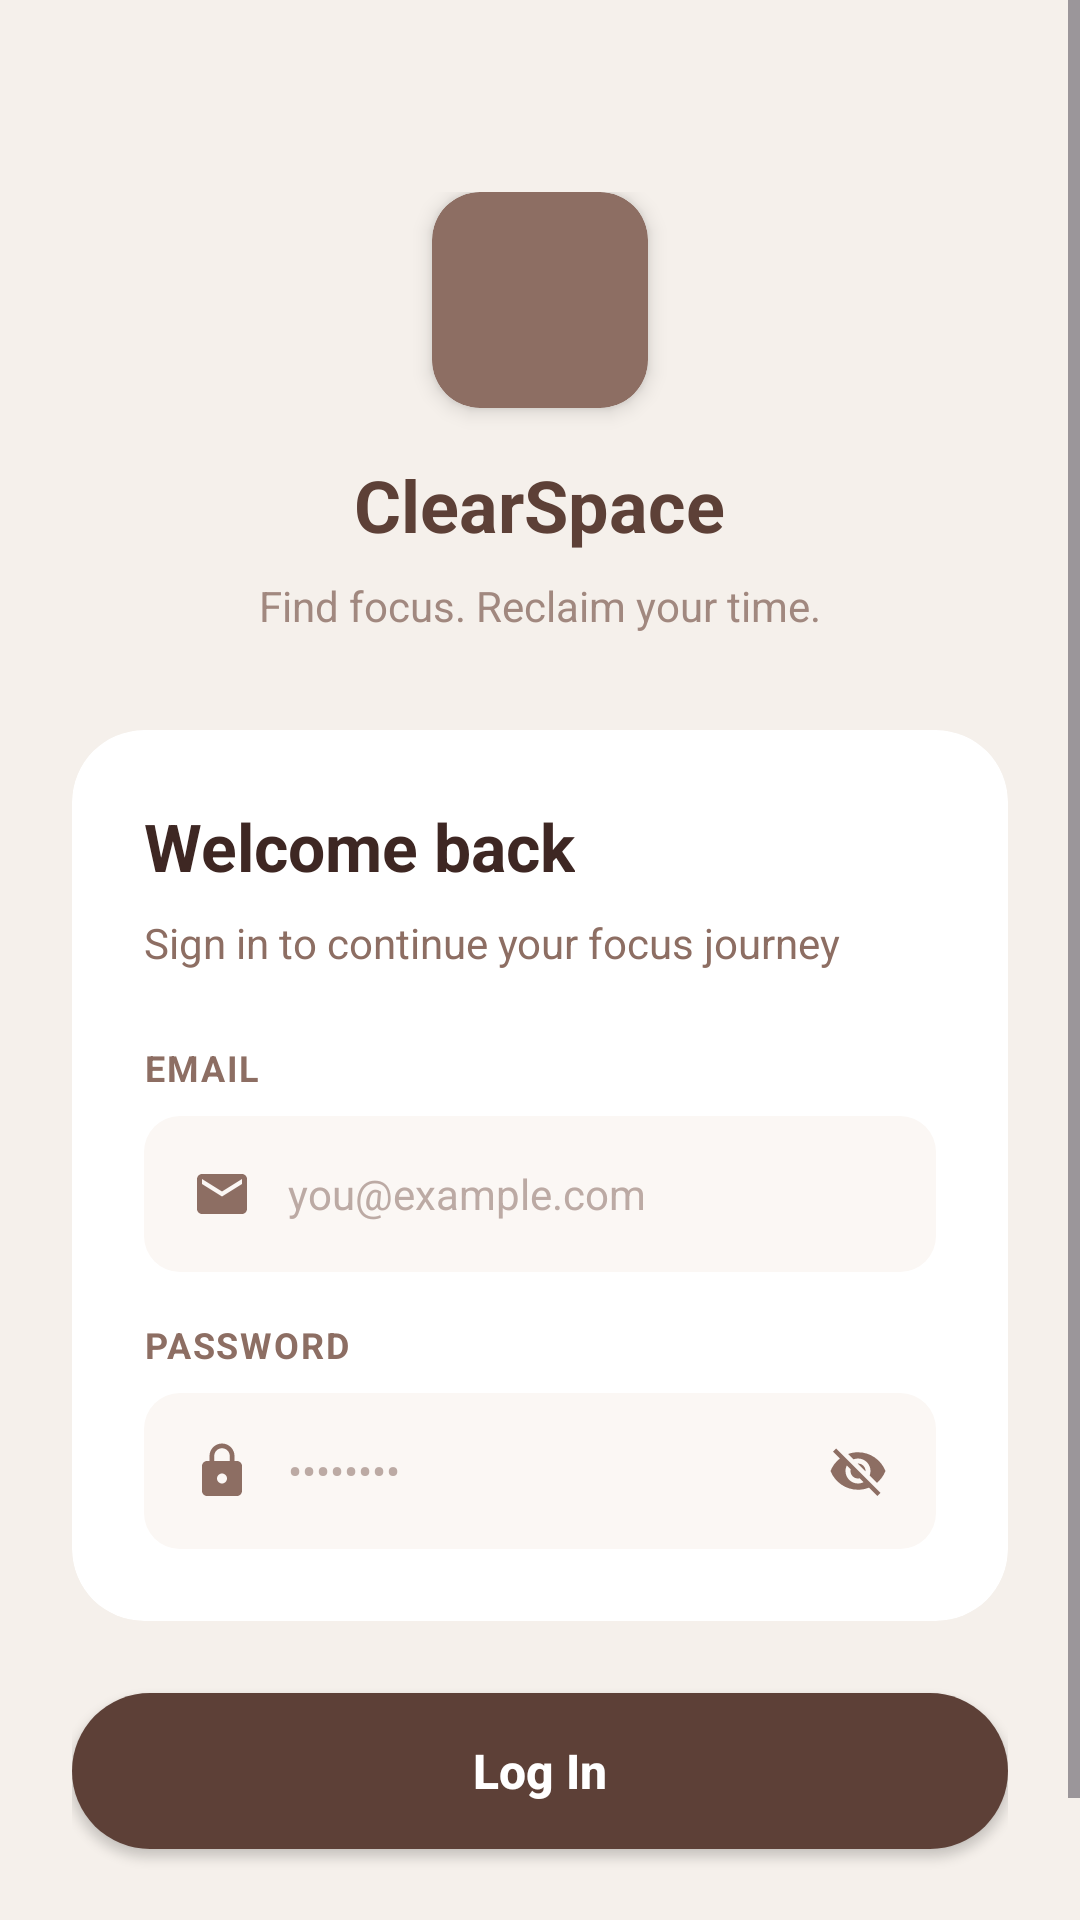

Named icons in this screenshot (1080 × 1920) and their centers, (x,y):
Toggle password visibility: (858,1472)
